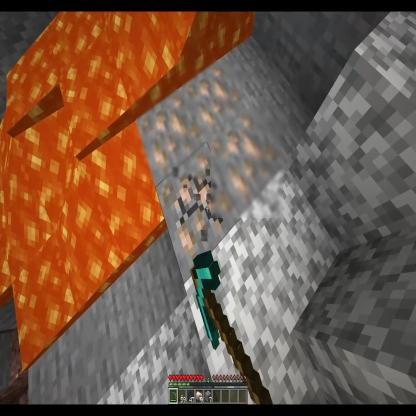iron ore: (155, 141, 241, 283), (212, 110, 284, 218), (136, 89, 204, 179), (182, 60, 244, 142)
